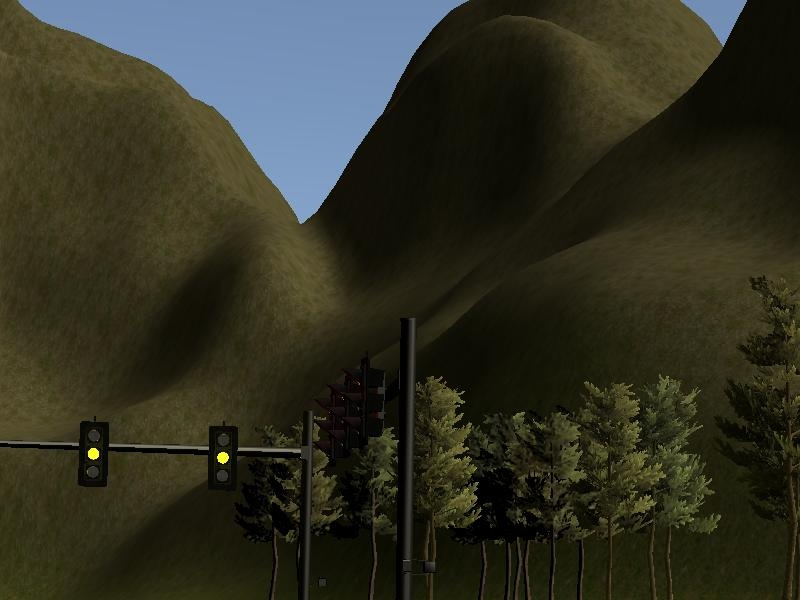YELLOW: (79, 423, 111, 489), (205, 423, 237, 489)
